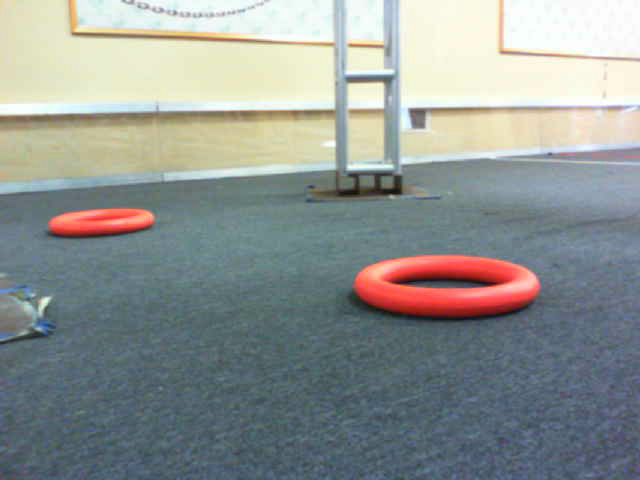Note: (361, 259, 543, 324), (49, 212, 160, 239)
